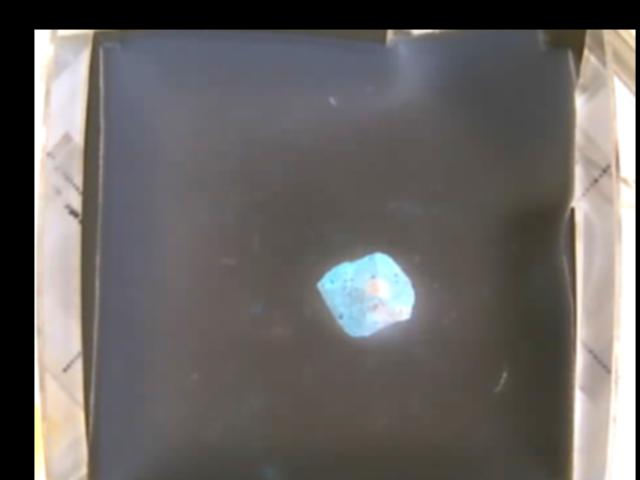Brisk: (316, 248, 416, 335)
